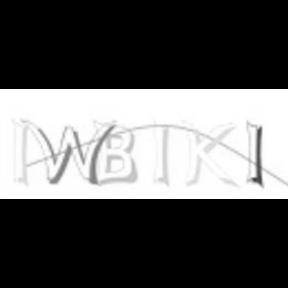B: (92, 117, 138, 185)
I: (243, 118, 266, 190), (152, 118, 174, 188), (11, 118, 31, 186)
K: (181, 115, 241, 191)
W: (26, 119, 116, 182)
